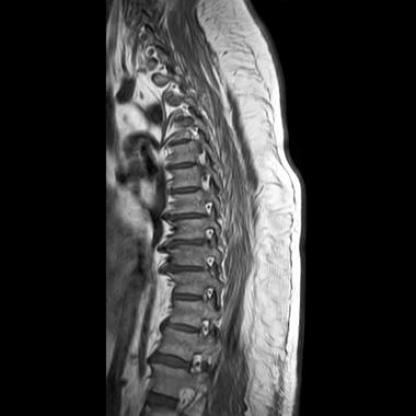Osteophytesrotation: (134, 50, 214, 416)
